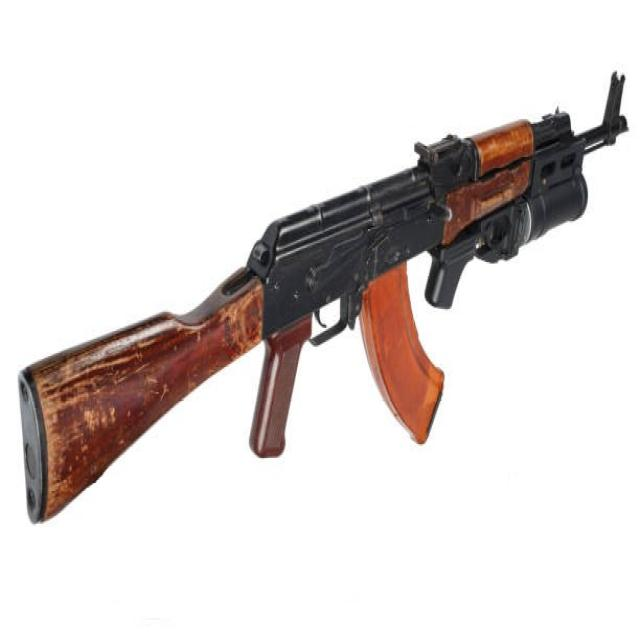rifle: (14, 54, 636, 544)
